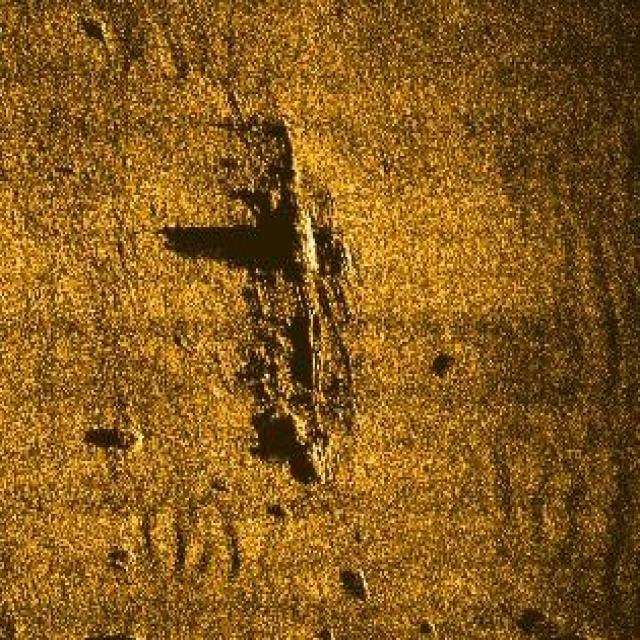ship: (246, 112, 345, 482)
